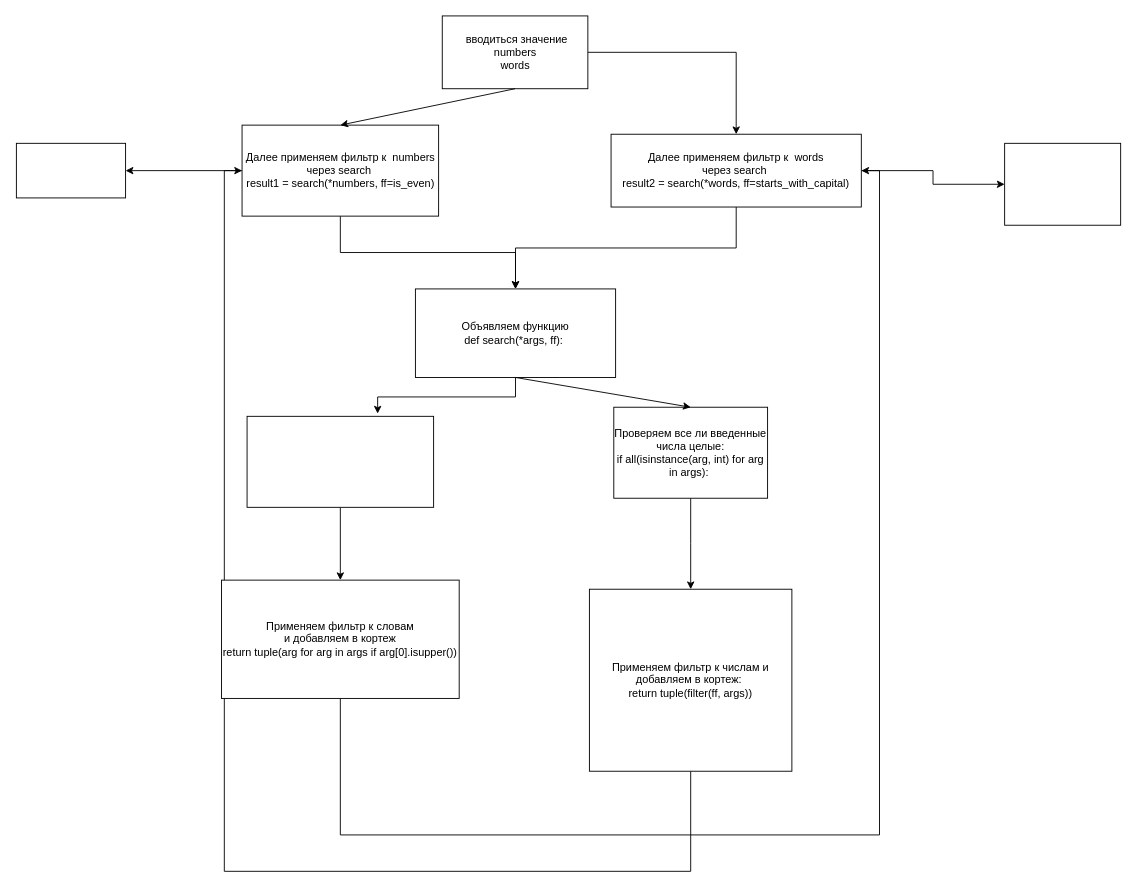
Some shapes in this 1137 by 895 pixel diagram are drawn without their labels. Each missing label, with the box of its shape:
Выводим кортеж с четными числами print(result1): (15, 142, 126, 198)
Выводим кортеж со словами начинающихся на заглавную букву print(result2): (1004, 142, 1121, 225)
Если введенные данные слова elif all(isinstance(arg, str) for arg in args):: (246, 415, 434, 507)
